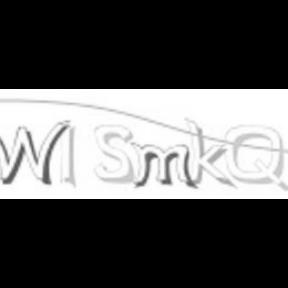I: (59, 124, 77, 186)
S: (93, 122, 135, 186)
W: (0, 117, 70, 185)
k: (224, 124, 288, 192), (184, 116, 234, 188)
m: (132, 142, 198, 190)
